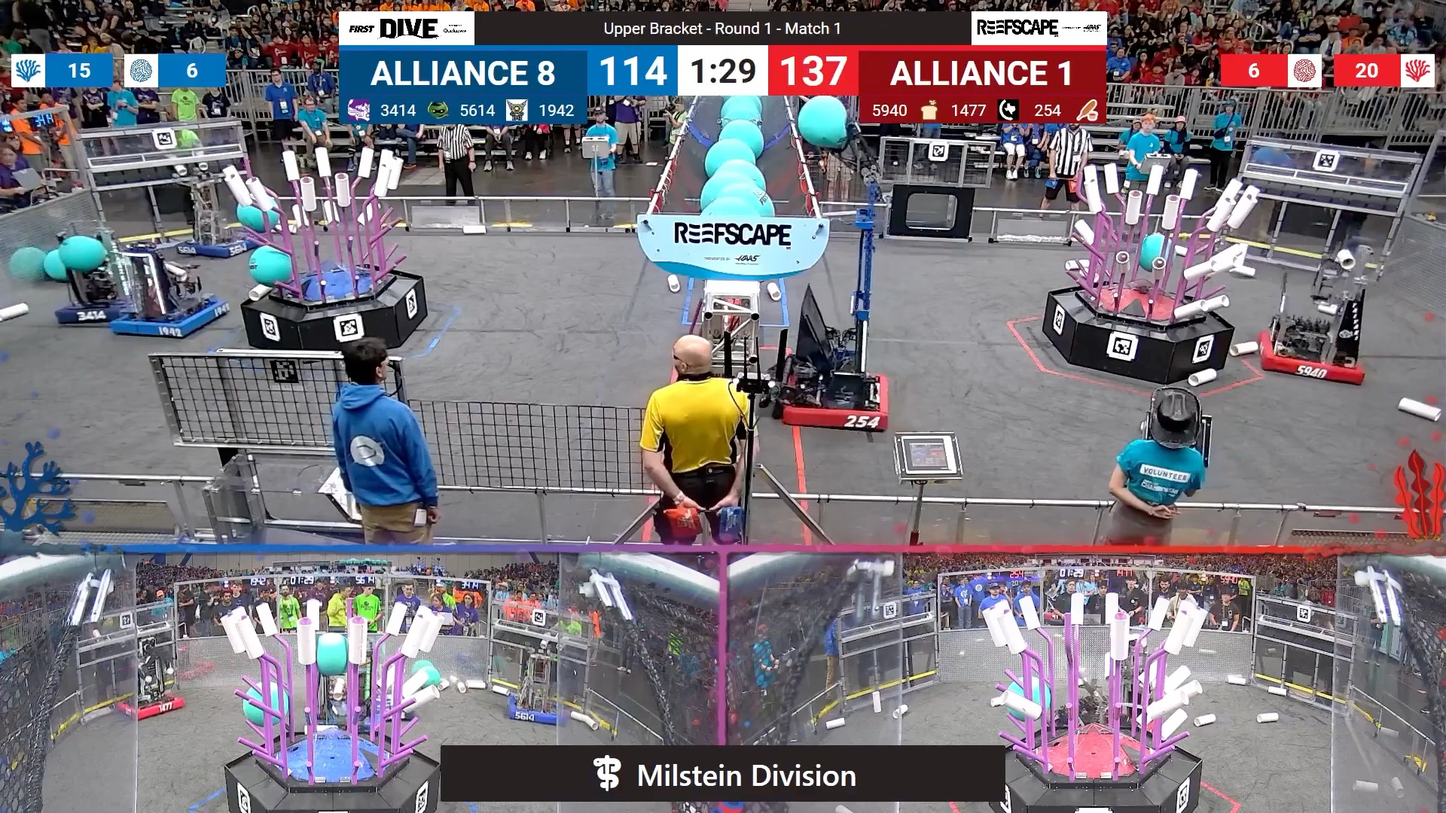bumpers: (768, 366, 894, 438), (1246, 328, 1373, 391), (108, 290, 238, 343), (52, 291, 139, 328), (166, 236, 267, 263), (114, 689, 193, 723), (502, 693, 569, 729)
